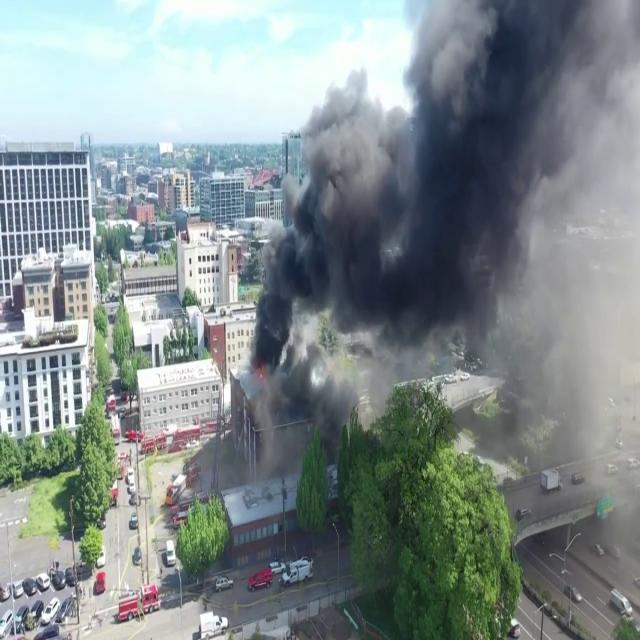Smoke: (250, 0, 604, 393)
